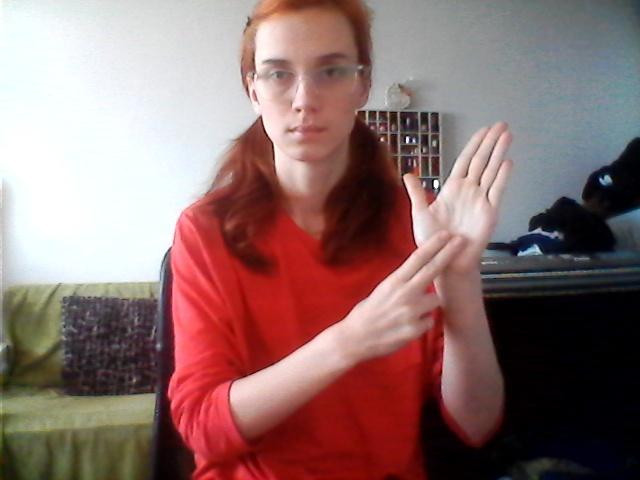n: (384, 121, 518, 360)
